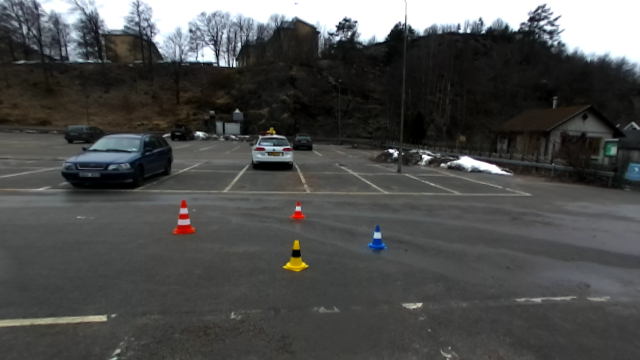blue: (367, 221, 386, 253)
orange: (289, 199, 305, 220)
orange2: (172, 200, 197, 235)
yellow: (281, 237, 309, 275)
